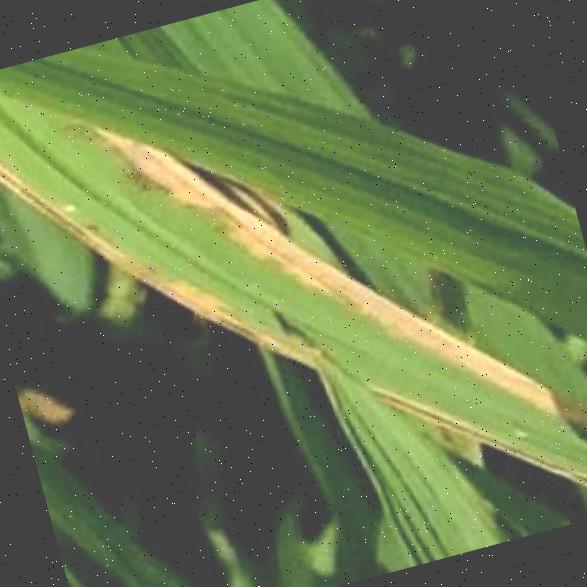Bacteria_Leaf_Blight: (106, 118, 303, 366)
